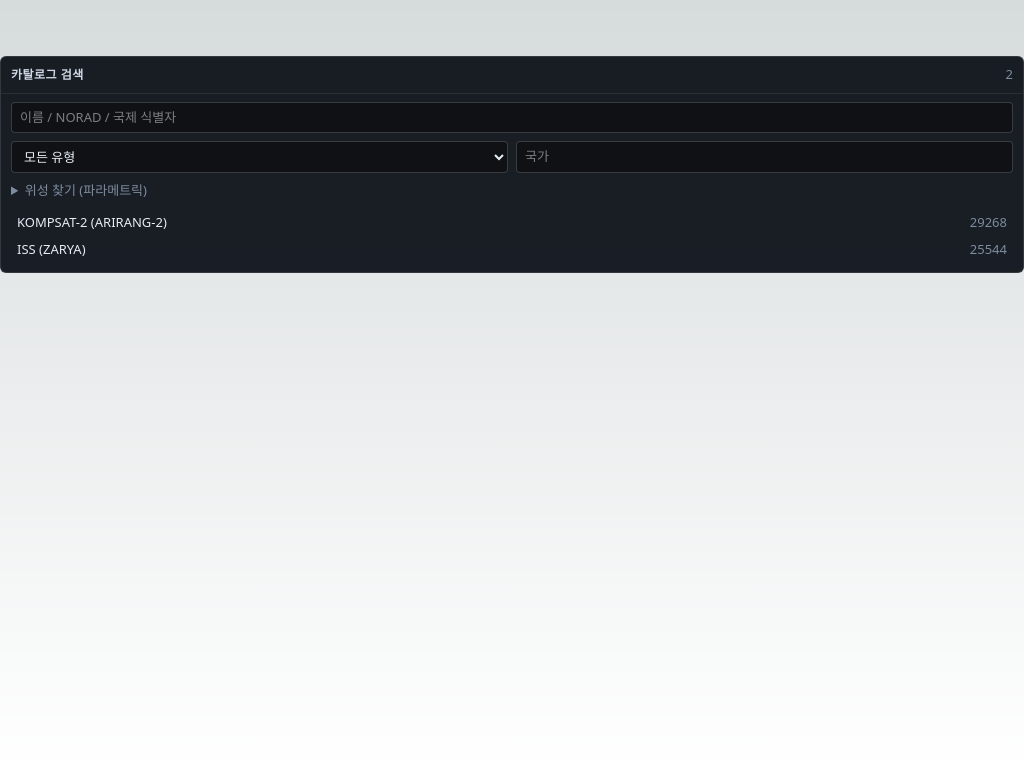
it: SearchPanel — snapshot-only objects are searchable › finds a SKOR object by country code
Expected: the text "KOMPSAT-2 (ARIRANG-2)" is shown, [17,212,167,232]
Expected: the text "ISS (ZARYA)" is shown, [17,240,86,260]
In the field with placeholder "국가": (764, 157) [516,141,1013,173], type "skor"
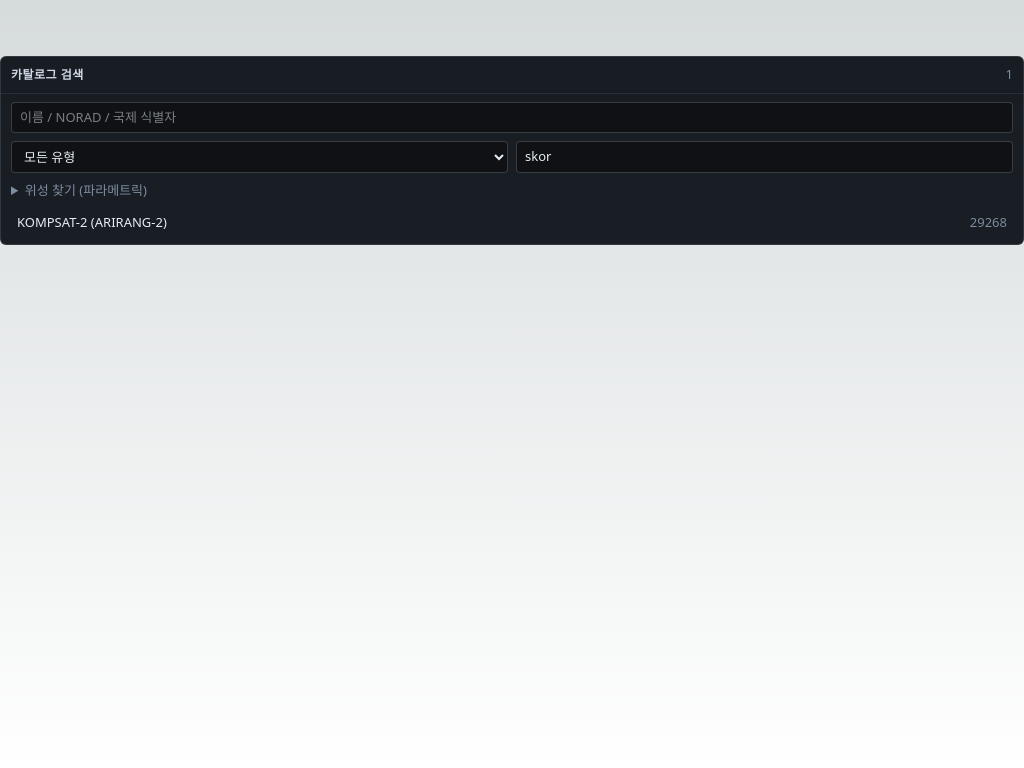
Expected: the text "KOMPSAT-2 (ARIRANG-2)" is shown, [17,212,167,232]
Expected: the text "ISS (ZARYA)" is gone
